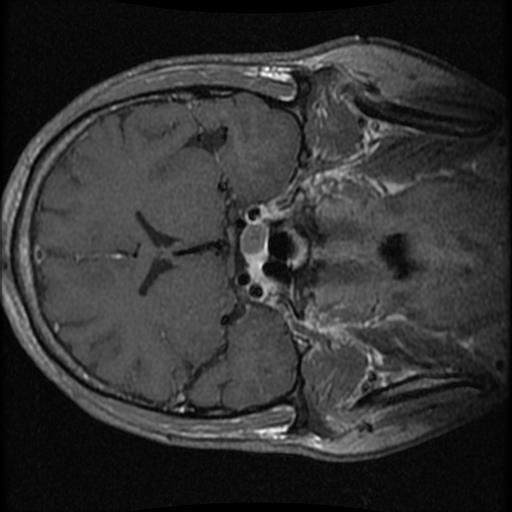pituitary tumour: (240, 219, 269, 267)
